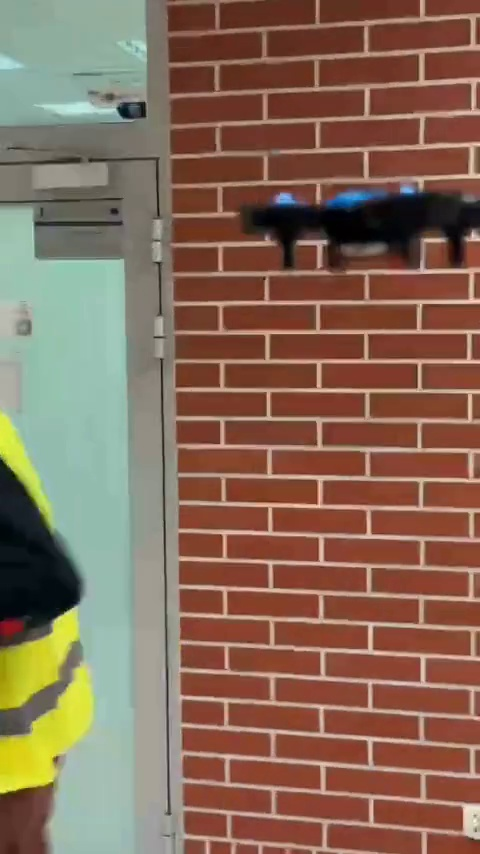drone: (233, 183, 480, 279)
